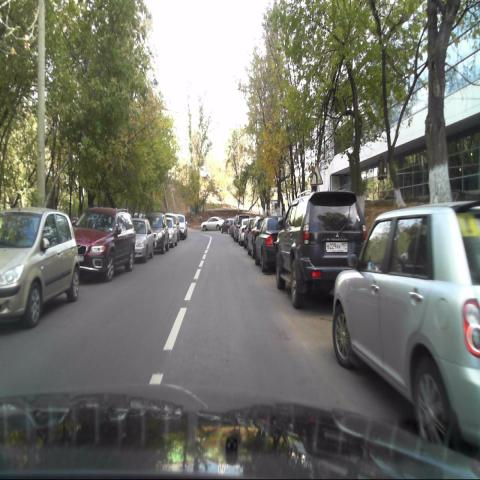1_11_1: (310, 162, 324, 186)
